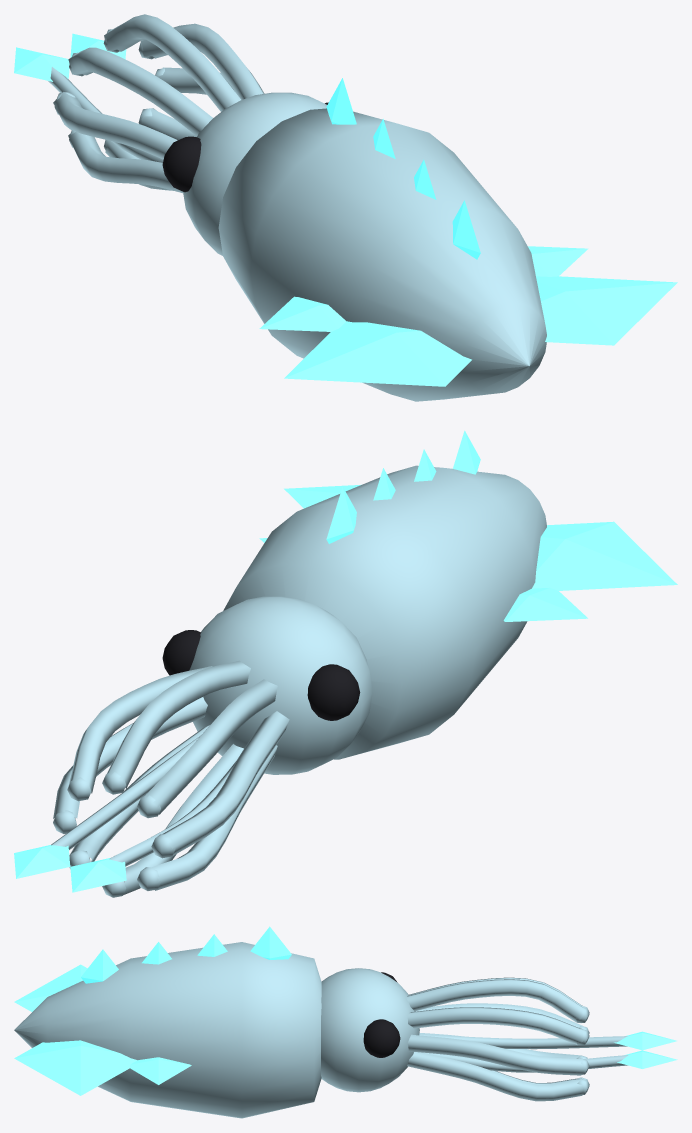
File: FISH_CRYSTALSQUID.glb
The picture shows the model from 3 angles, top to bottom: view 1: azimuth 30°, elevation 25°; view 2: azimuth 150°, elevation 25°; view 3: azimuth 270°, elevation 25°; orthographic projection. The views are drawn at different scales.
Visible parts, largest first — view 1: CrystalBody, Glow, Eye; view 2: CrystalBody, Glow, Eye; view 3: CrystalBody, Glow, Eye.
Boxes of the visible parts, box(x1,y1,x2,y2) form: CrystalBody: box(48, 14, 546, 401); Glow: box(14, 33, 677, 386); Eye: box(162, 102, 328, 192); CrystalBody: box(51, 465, 546, 897); Glow: box(14, 430, 677, 892); Eye: box(162, 630, 360, 720); CrystalBody: box(14, 942, 628, 1118); Glow: box(14, 926, 677, 1095); Eye: box(363, 972, 400, 1057).
Bounding box in the file's own units: 1.88 × 1.23 × 4.
